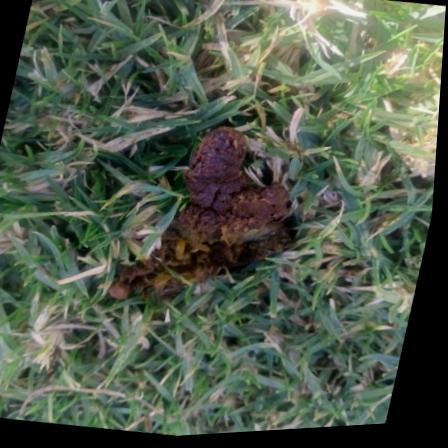dog-poop: (110, 110, 335, 339)
